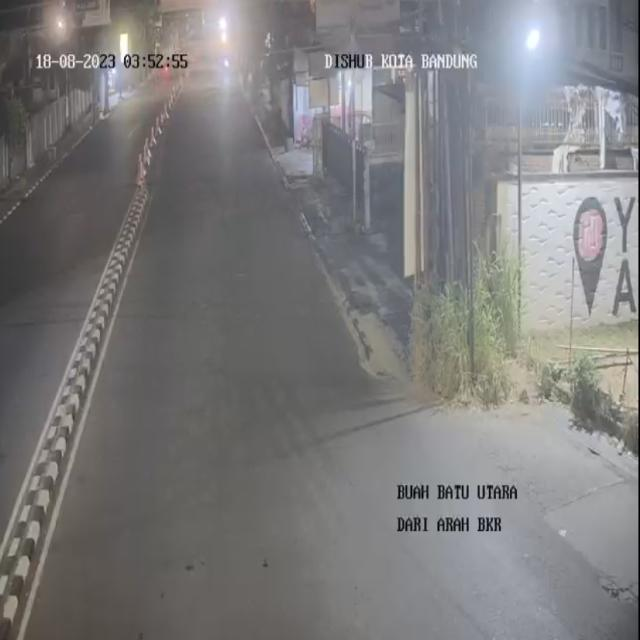motorcycle: (504, 2, 554, 86)
